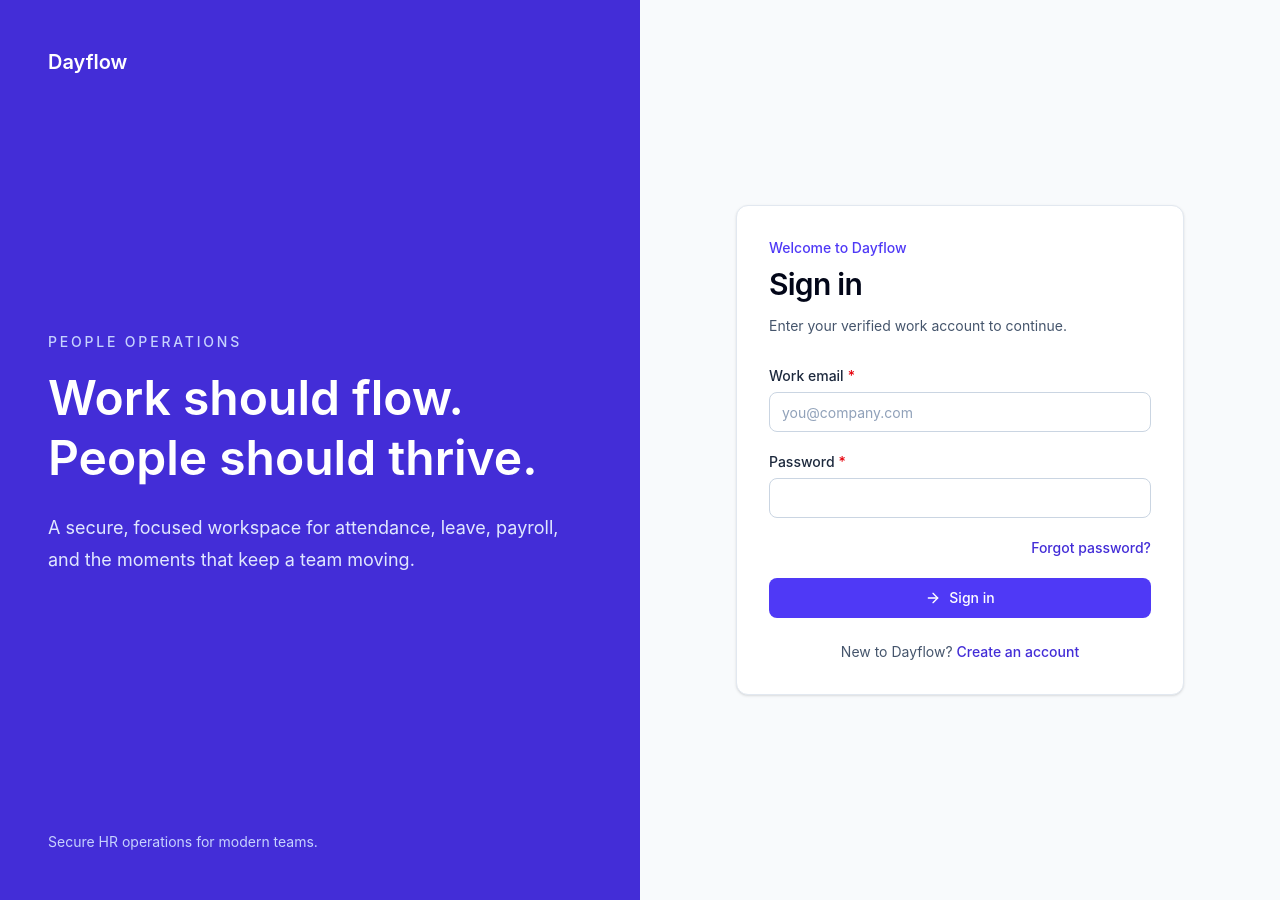
Test case: authentication screens › shows backend field errors on the matching control
Type "asha@dayflow.dev" into the field labelled "Work email*" at (960, 412), box [769, 392, 1151, 432]
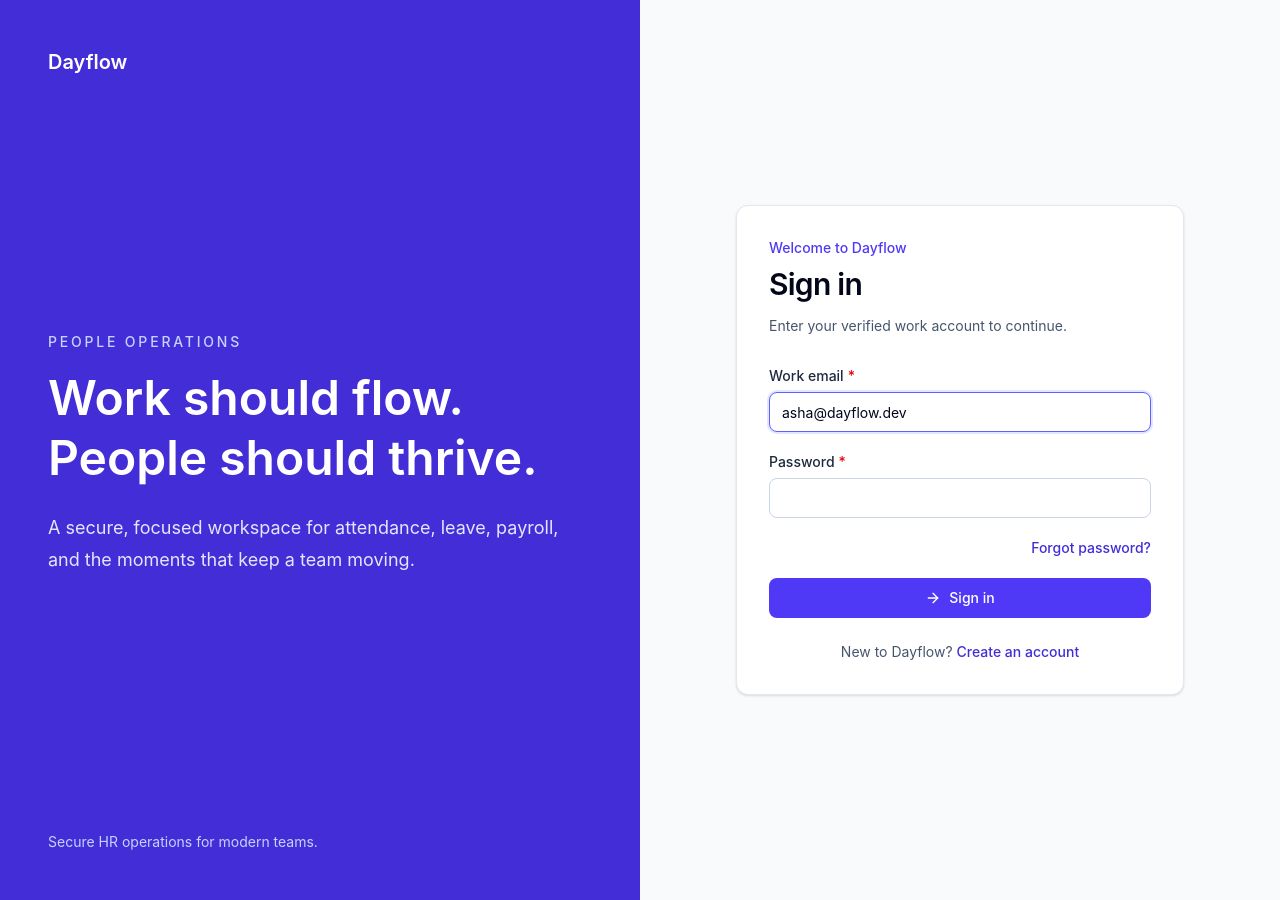
Type "SecurePassword123!" into the password field labelled "Password*" at (960, 498), box [769, 478, 1151, 518]
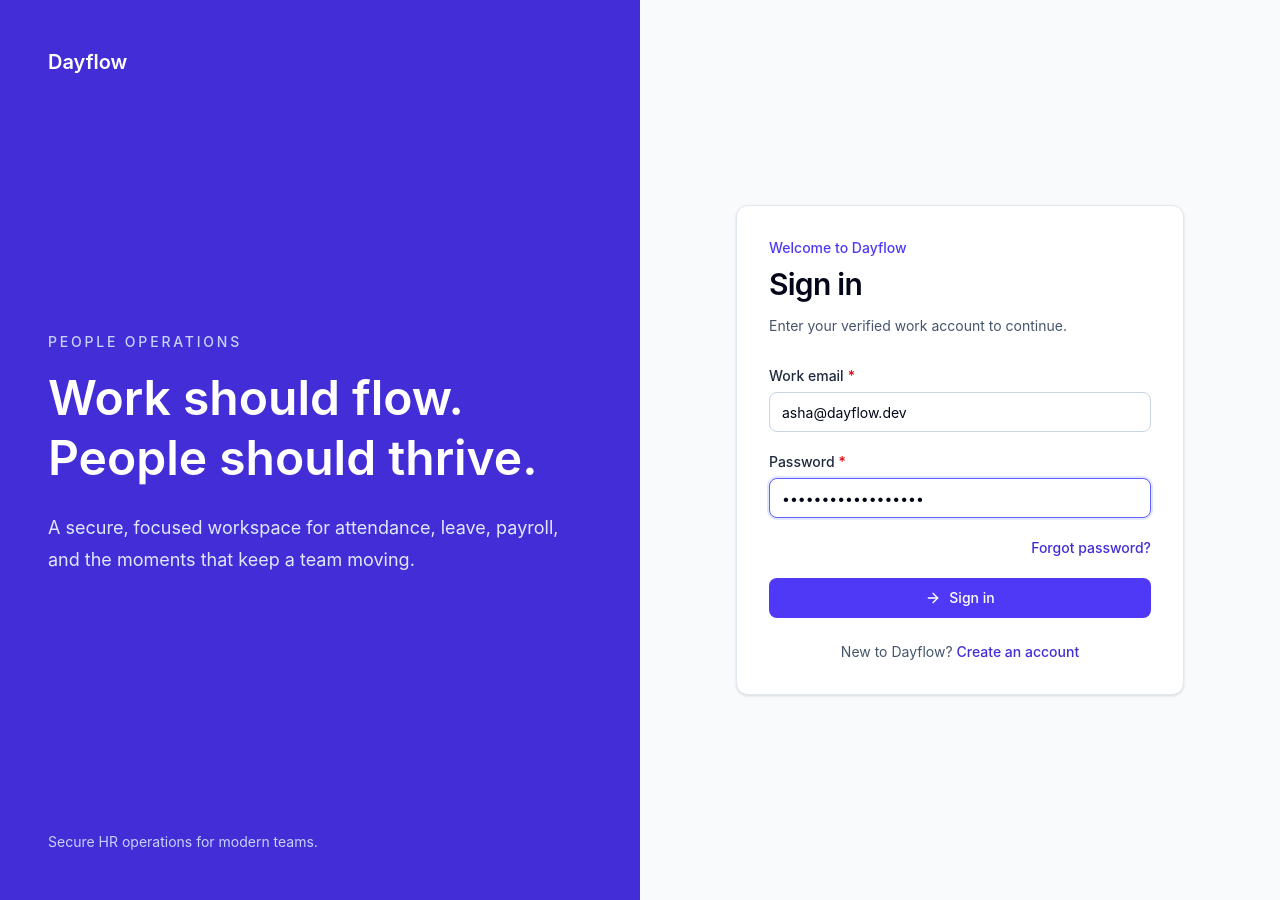
Click the button "Sign in" at (960, 598), box [769, 578, 1151, 618]
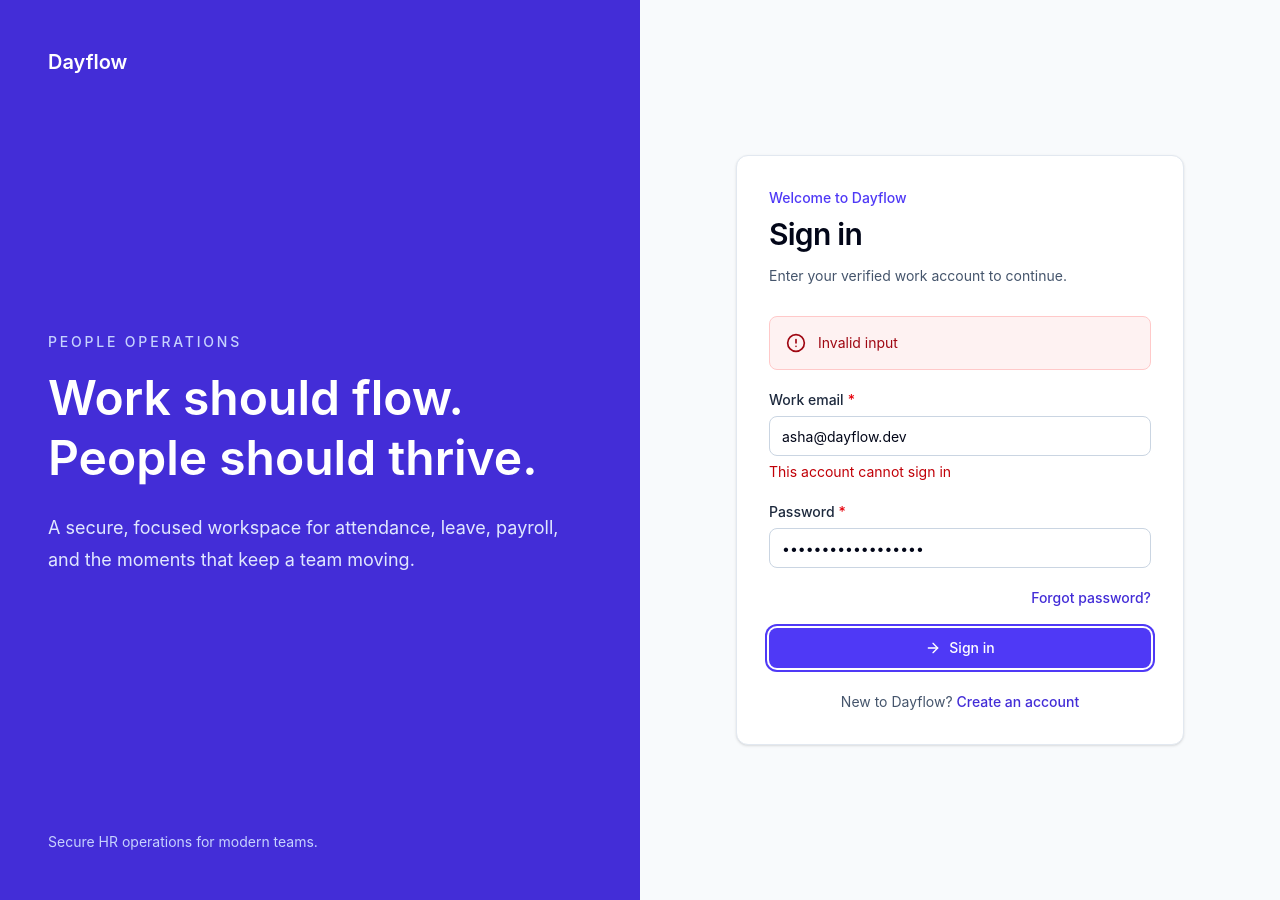
Check: the text "This account cannot sign in" is shown, box [769, 463, 951, 480]
